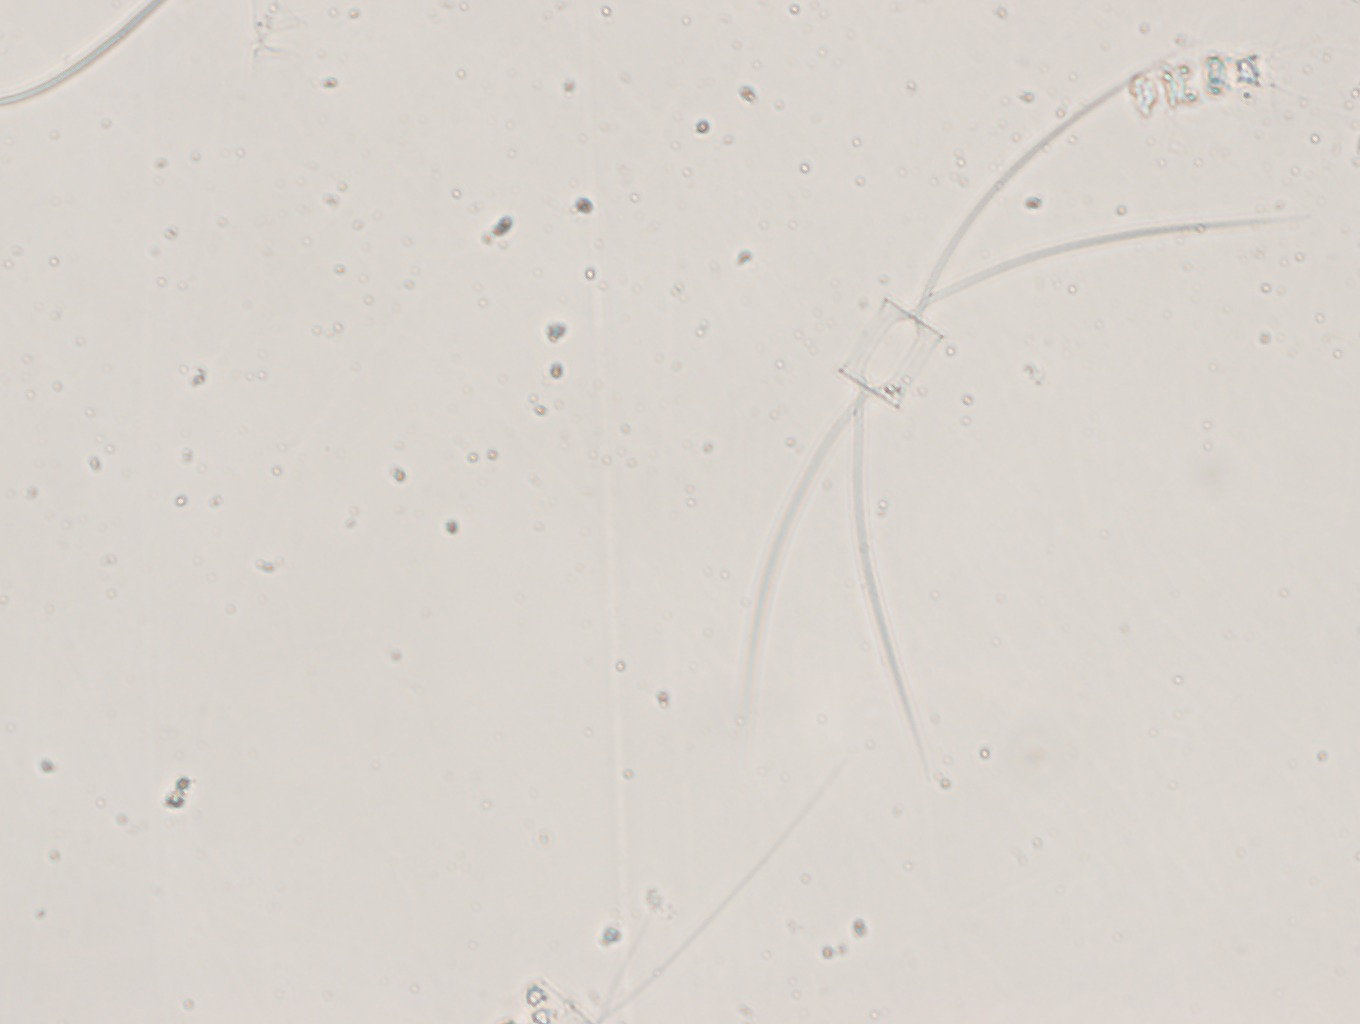chaetoceros: (742, 56, 1295, 776)
